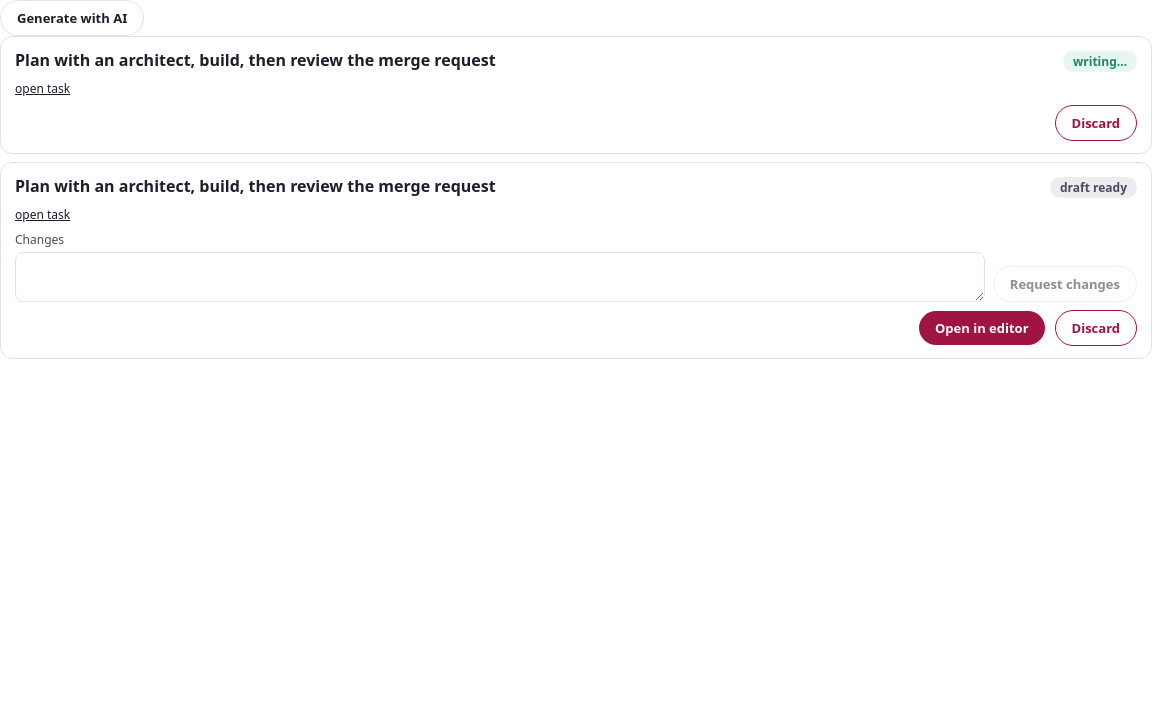
Scenario: WorkflowGenerations › Generate with AI opens a dialog: description (max 4000), optional model, a note on tokens, Start
Step 1. Click the button "Generate with AI" → {"x": 72, "y": 18}, box top-left (0, 0), bottom-right (144, 36)
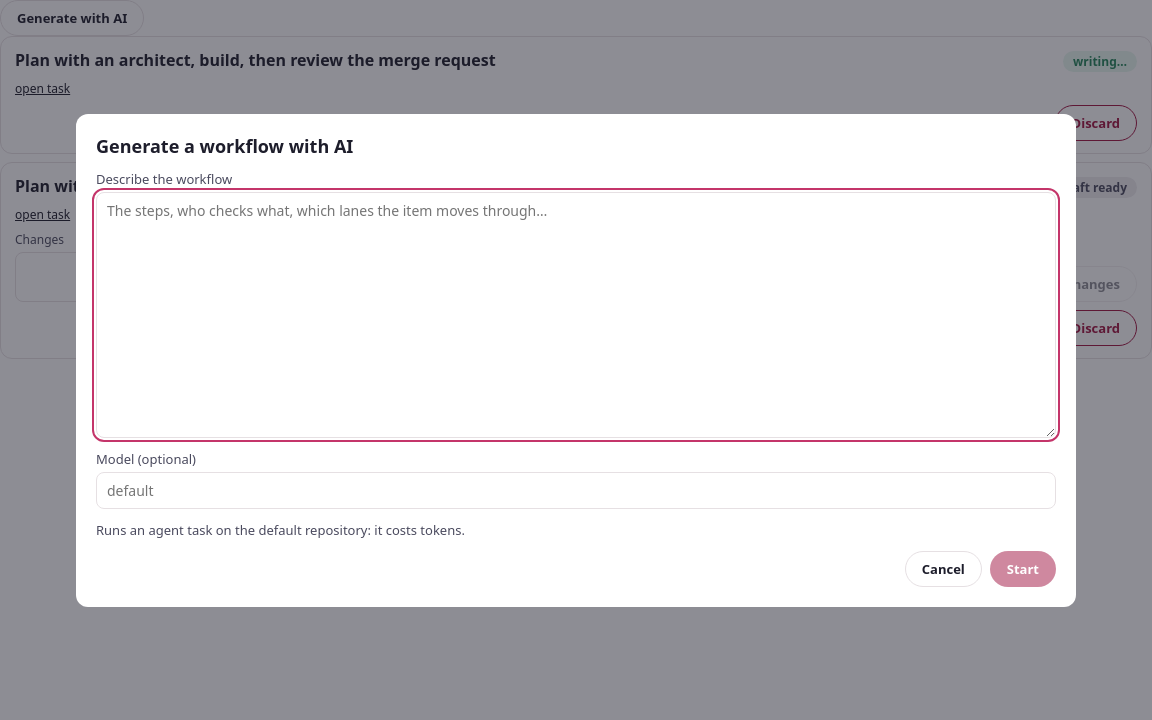
Result: the button "Start" is disabled at top-left (990, 550), bottom-right (1056, 586)
Step 2. Replace the text in the text box labelled "Describe the workflow" with "  plan then build  " → {"x": 576, "y": 314}, box top-left (96, 192), bottom-right (1056, 438)
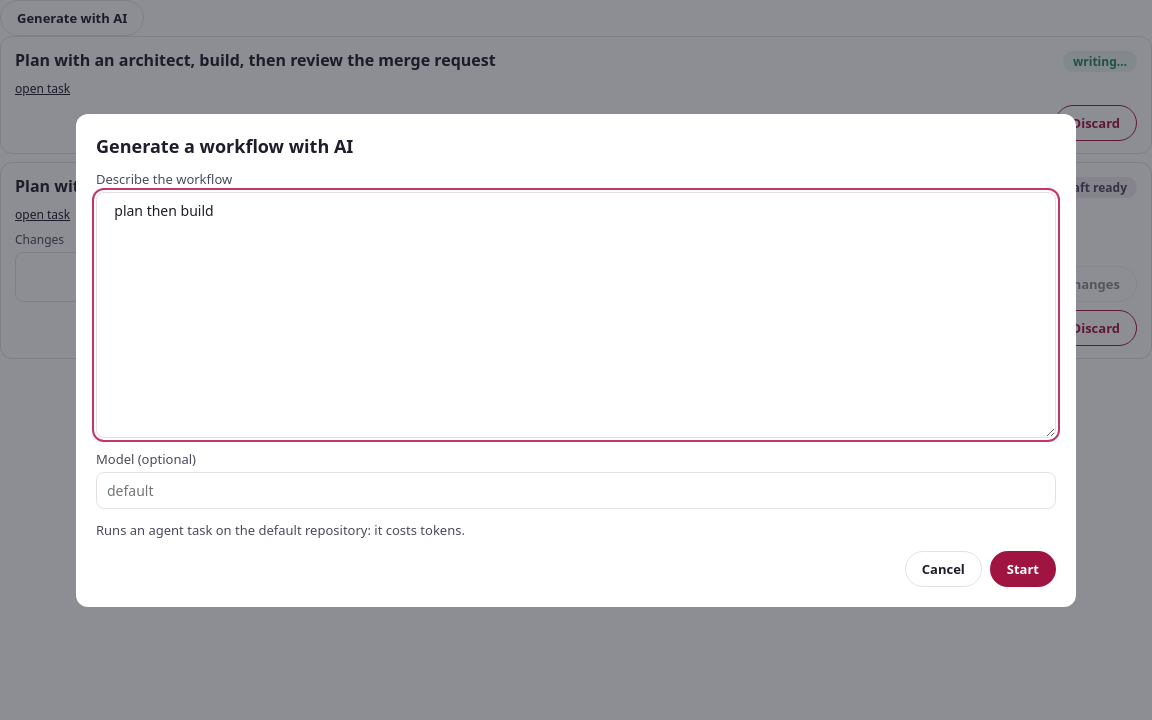
Step 3. Click the button "Start" → {"x": 1023, "y": 568}, box top-left (990, 550), bottom-right (1056, 586)
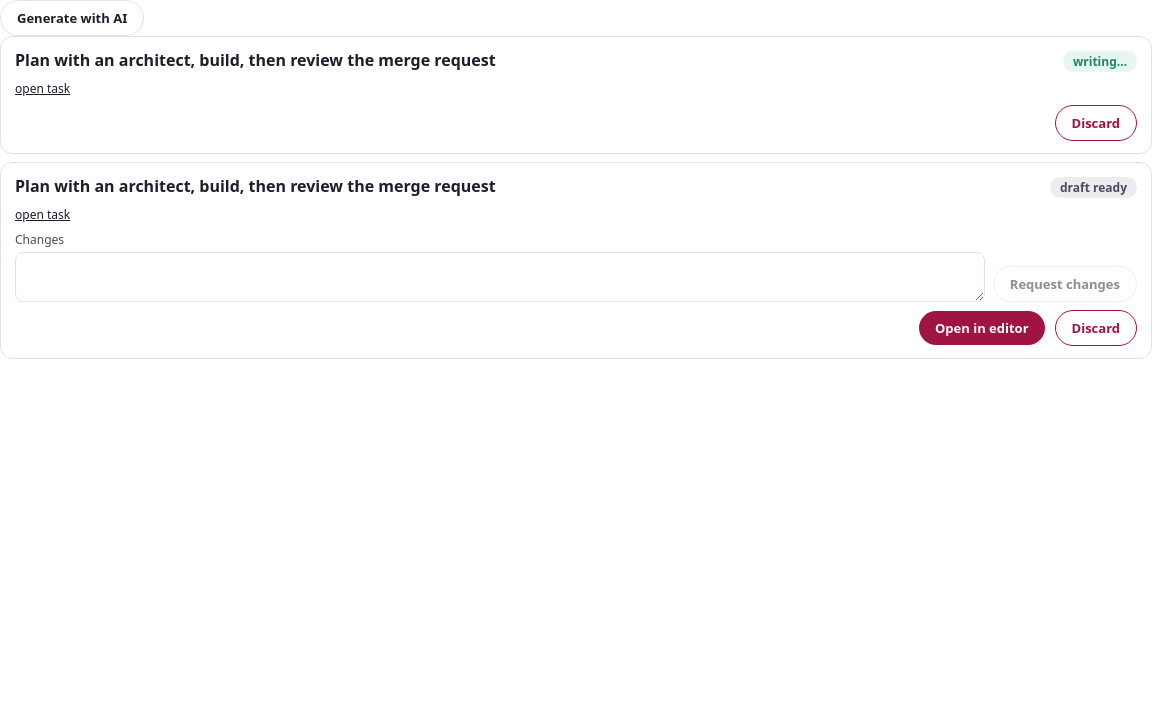
Result: the dialog is gone
